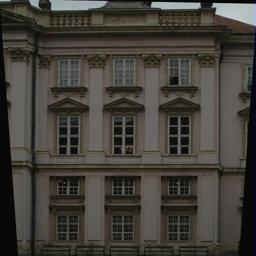building: (33, 0, 223, 256)
